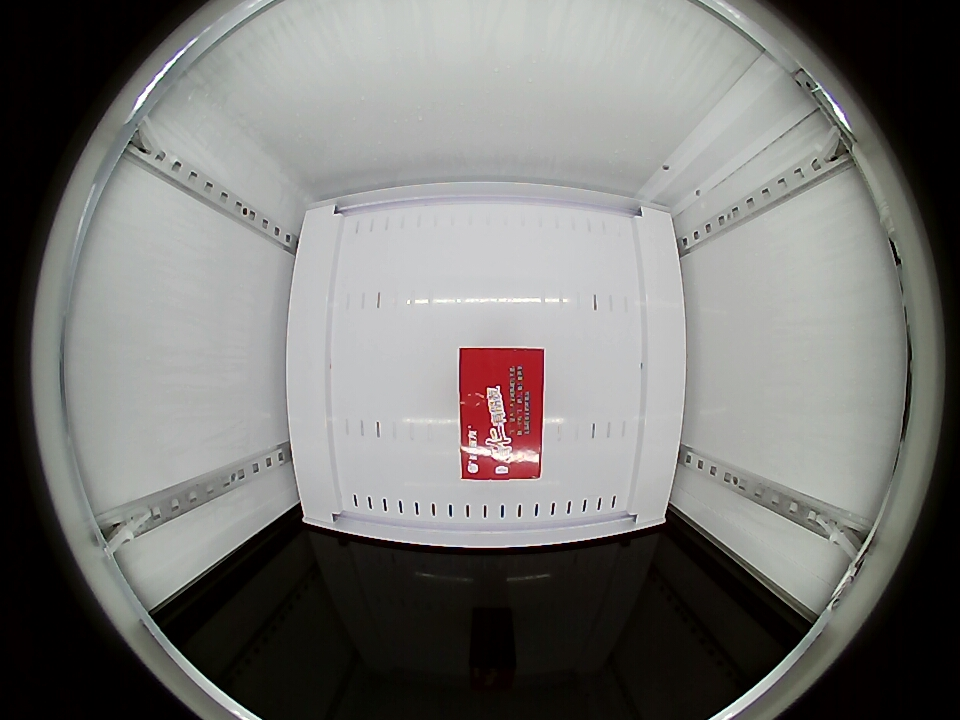haoliyou: (459, 348, 544, 480)
